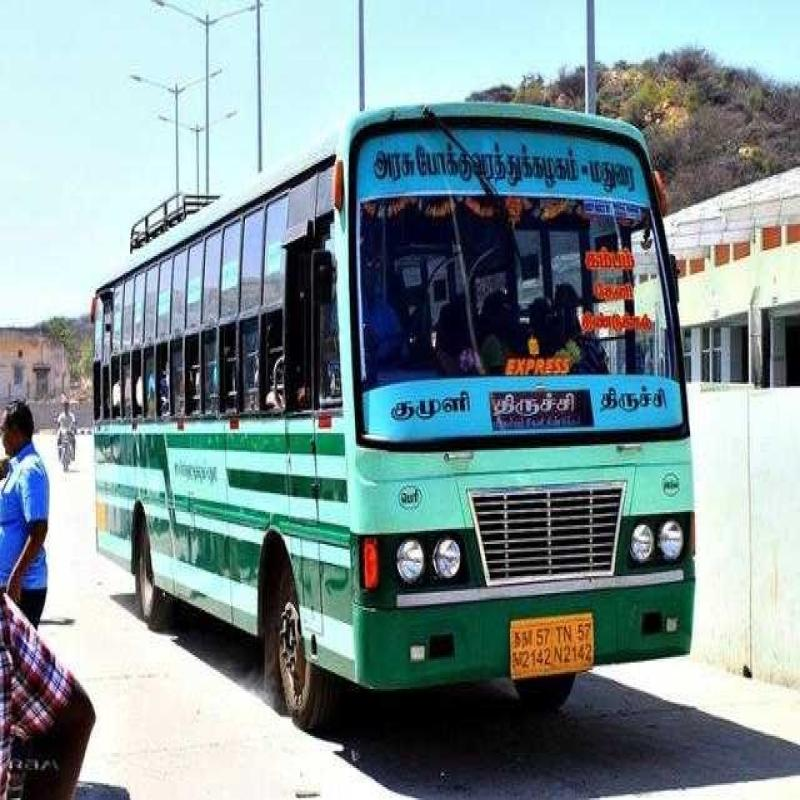bus: (80, 84, 724, 746)
